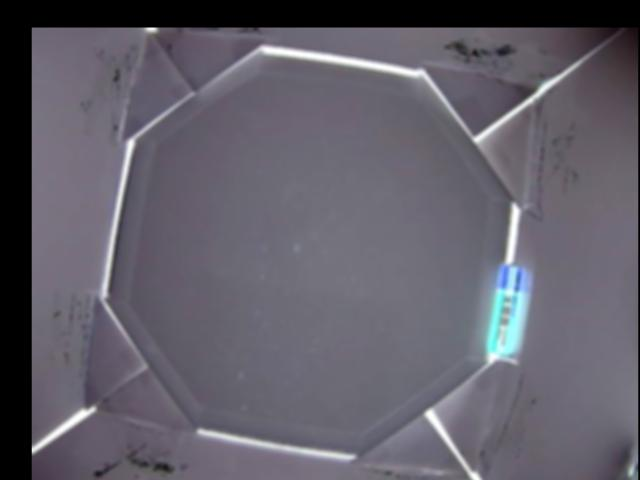Battery: (487, 262, 525, 353)
